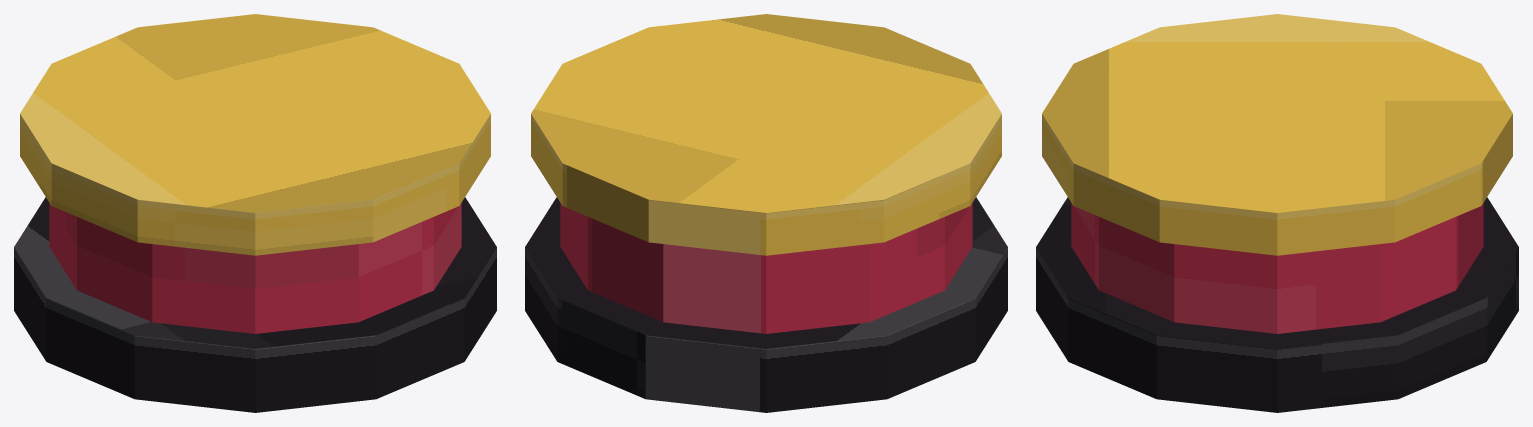
The model's file is circus_pedestal.glb.
3 views of the same model, side by side, from view 1: azimuth 30°, elevation 25°; view 2: azimuth 150°, elevation 25°; view 3: azimuth 270°, elevation 25° (orthographic).
Visible parts, largest first — view 1: PedestalTop, PedestalBase, PedestalBody; view 2: PedestalTop, PedestalBase, PedestalBody; view 3: PedestalTop, PedestalBase, PedestalBody.
Boxes of the visible parts, <box> form: PedestalTop: <box>20,14,490,255</box>; PedestalBase: <box>14,197,496,412</box>; PedestalBody: <box>49,203,461,333</box>; PedestalTop: <box>531,14,1001,255</box>; PedestalBase: <box>525,197,1007,412</box>; PedestalBody: <box>560,203,972,333</box>; PedestalTop: <box>1042,14,1512,255</box>; PedestalBase: <box>1036,197,1518,412</box>; PedestalBody: <box>1071,203,1483,333</box>.
Bounding box in the file's own units: 1.64 × 0.74 × 1.64.
1 material, 1 textured.
